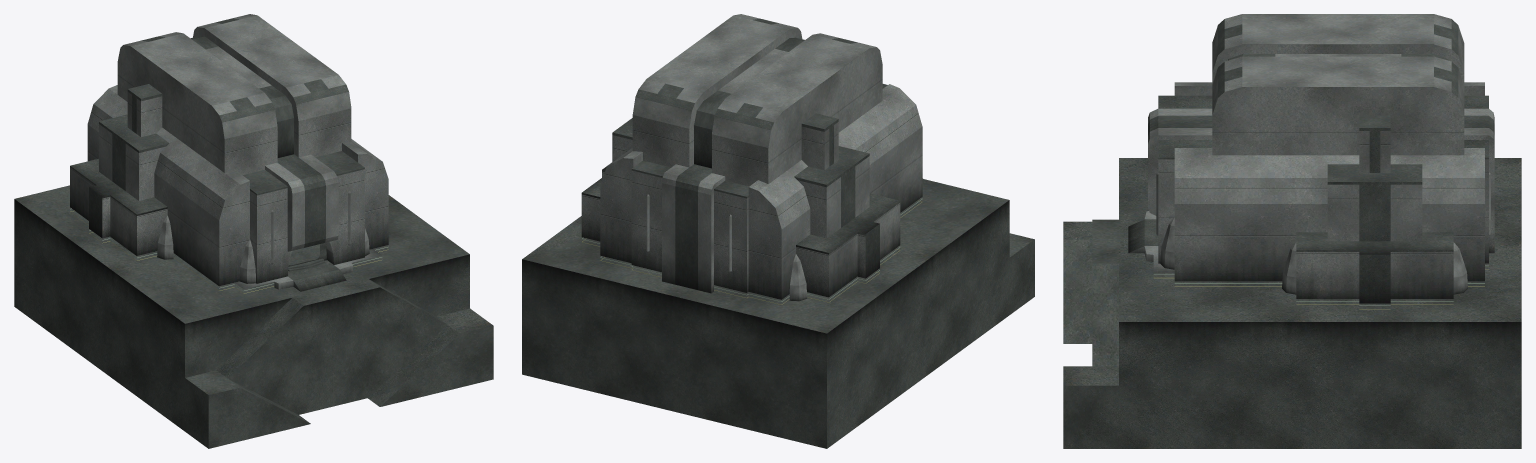
The model's file is ply_corl_cantina_s01_r0_exterior_mesh_l2.fbx.
The picture shows the model from 3 angles, left to right: view 1: azimuth 30°, elevation 25°; view 2: azimuth 150°, elevation 25°; view 3: azimuth 270°, elevation 25°; orthographic projection. The views are drawn at different scales.
Parts seen in each view (by area): view 1: mesh_node; view 2: mesh_node; view 3: mesh_node.
Part boxes in pixels (box(x1,y1,x2,y2)): mesh_node: box(14, 14, 493, 448); mesh_node: box(522, 14, 1034, 448); mesh_node: box(1063, 14, 1521, 448).
Bounding box in the file's own units: 36.98 × 33.29 × 43.68.
